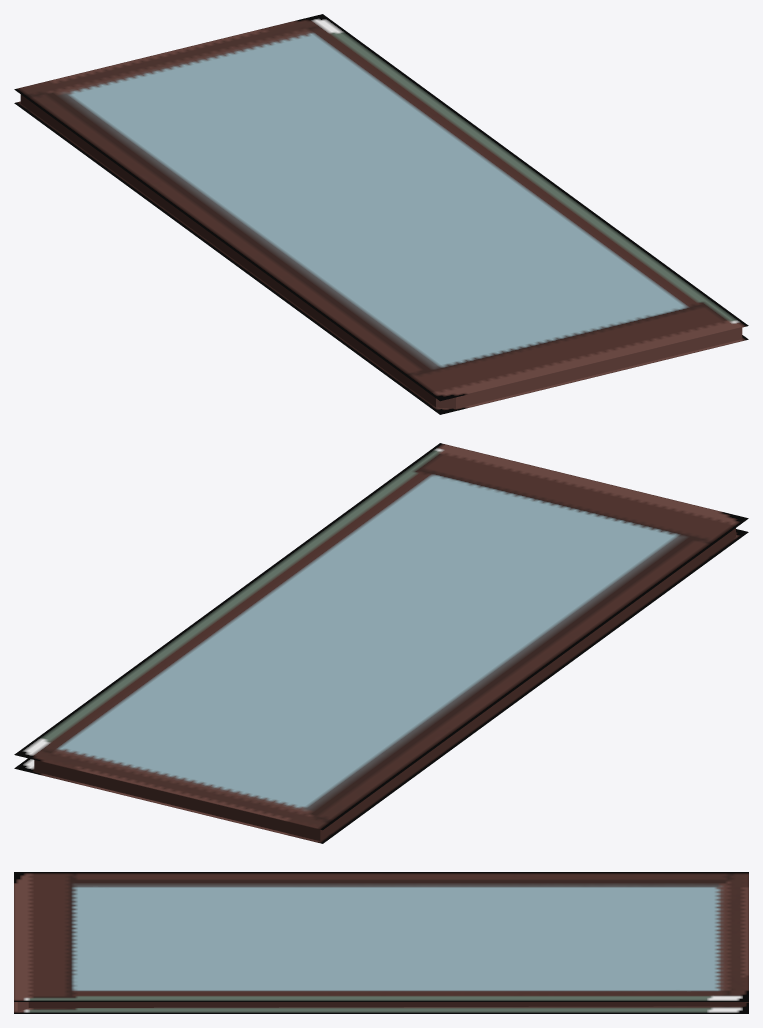
Rendered from pz_native_fixtures_doors_01_107_frame.obj.
3 views of the same model, one above another, from view 1: azimuth 30°, elevation 25°; view 2: azimuth 150°, elevation 25°; view 3: azimuth 270°, elevation 25° (orthographic). The views are drawn at different scales.
Visible parts, largest first — view 1: pz_native_fixtures_doors_01_107_frame; view 2: pz_native_fixtures_doors_01_107_frame; view 3: pz_native_fixtures_doors_01_107_frame.
Part boxes in pixels (x1,y1,x2,y2): pz_native_fixtures_doors_01_107_frame: (14,14,748,414); pz_native_fixtures_doors_01_107_frame: (14,443,748,843); pz_native_fixtures_doors_01_107_frame: (14,872,748,1013).
Bounding box in the file's own units: 1.06 × 0.045 × 2.54.
Materials: 1 (1 with a texture image).
